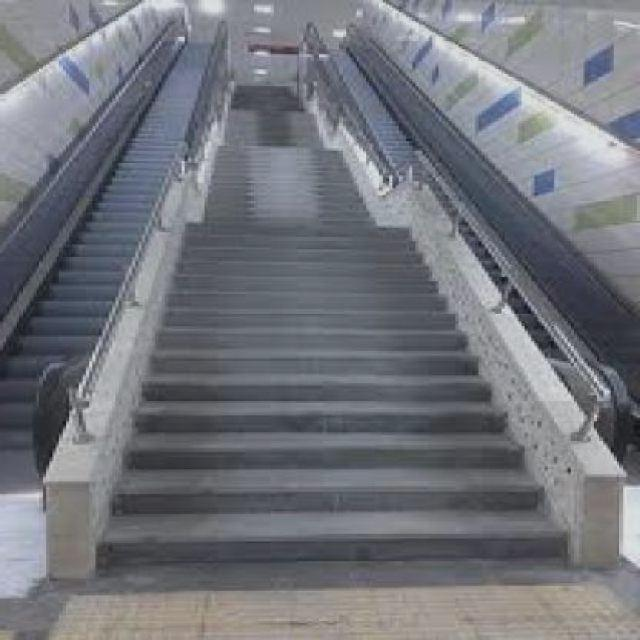stair: (44, 2, 628, 588)
